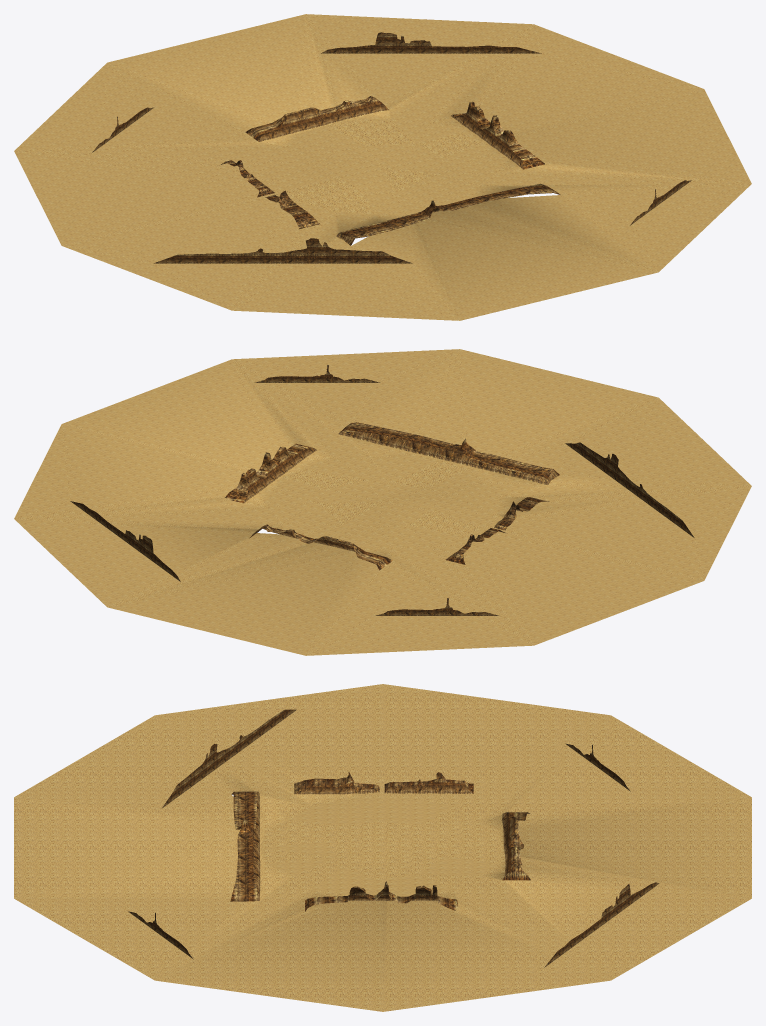
The model's file is ENVO_ARAZONA.obj.
3 views of the same model, one above another, from view 1: azimuth 30°, elevation 25°; view 2: azimuth 150°, elevation 25°; view 3: azimuth 270°, elevation 25° (orthographic). The views are drawn at different scales.
Visible parts, largest first — view 1: ARAZONA; view 2: ARAZONA; view 3: ARAZONA.
Boxes of the visible parts, x1,y1,x2,y2 form: ARAZONA: [14, 14, 751, 320]; ARAZONA: [14, 349, 751, 655]; ARAZONA: [14, 684, 751, 1011].
Size of what is drawn, in the model's own units: 24823 by 1035 by 23608.
Materials: 10 (10 with a texture image).
